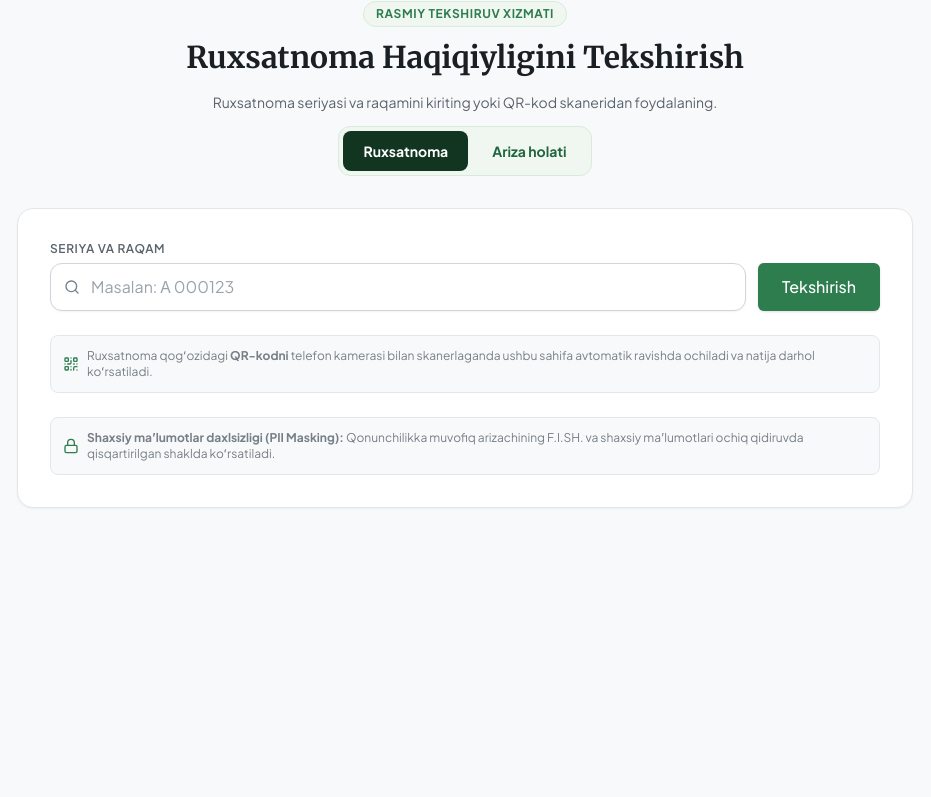
Test case: VerifyPage — application arm › shows the next step for an application awaiting payment
This screenshot has width=931, height=797.
Click the tab "Ariza holati" at (529, 151), box [472,131,586,171]
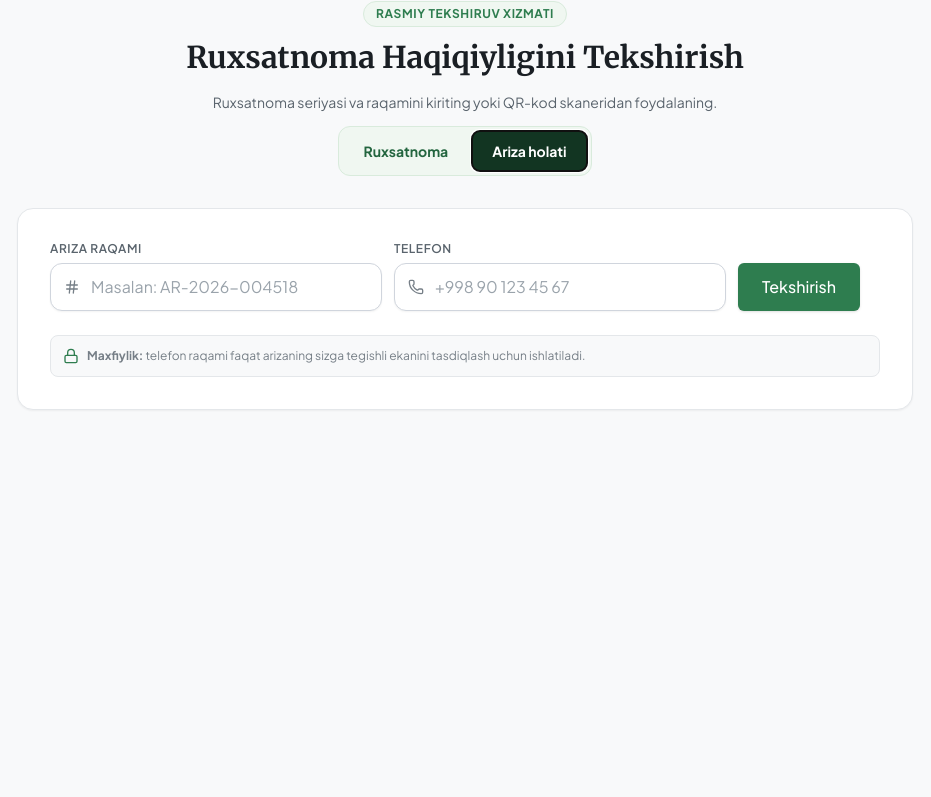
Type "AR-2026-004518" into the field labelled "Ariza raqami" at (216, 287), box [50,263,382,311]
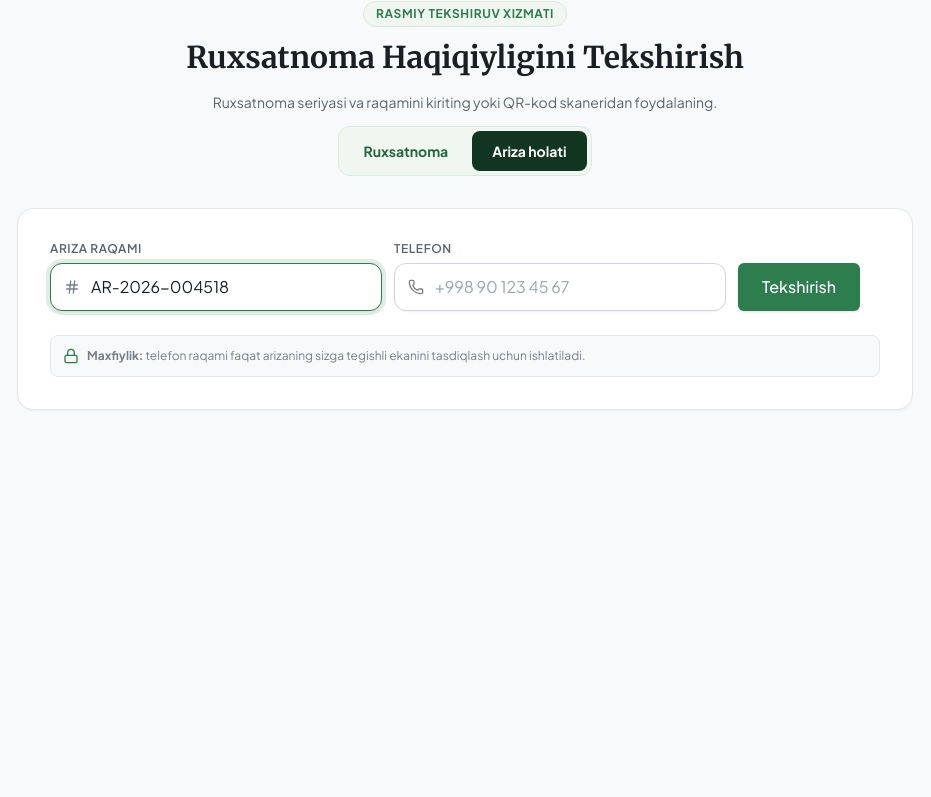
Type "+998901234567" into the field labelled "Telefon" at (560, 287), box [394,263,726,311]
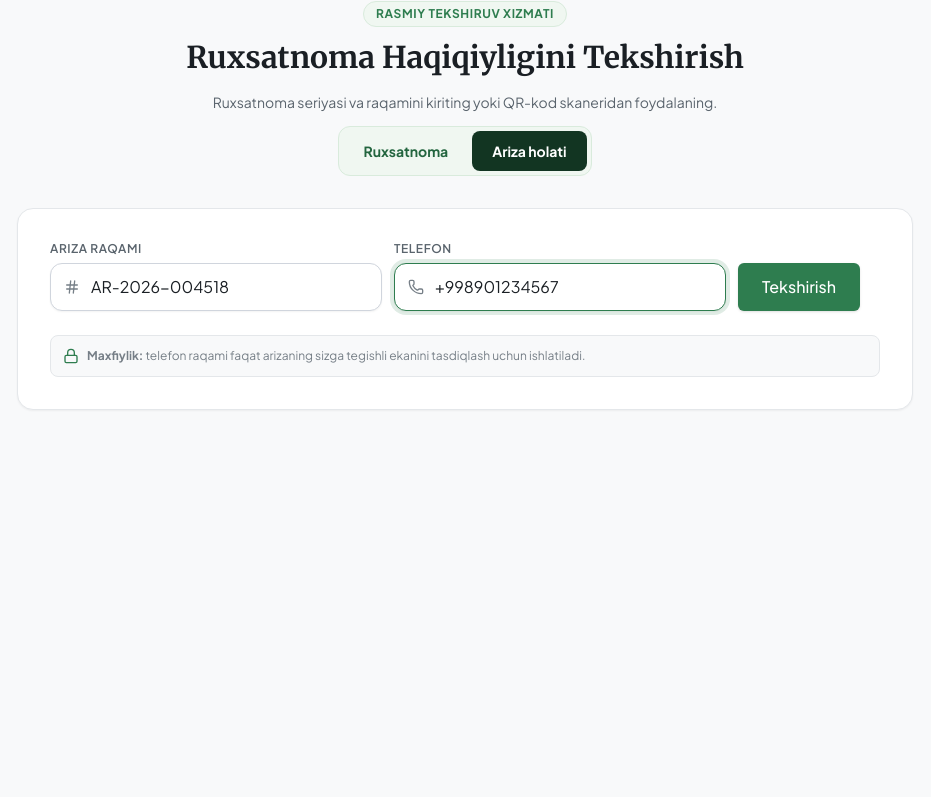
Click the button named "tekshirish" at (799, 287), box [738,263,860,311]
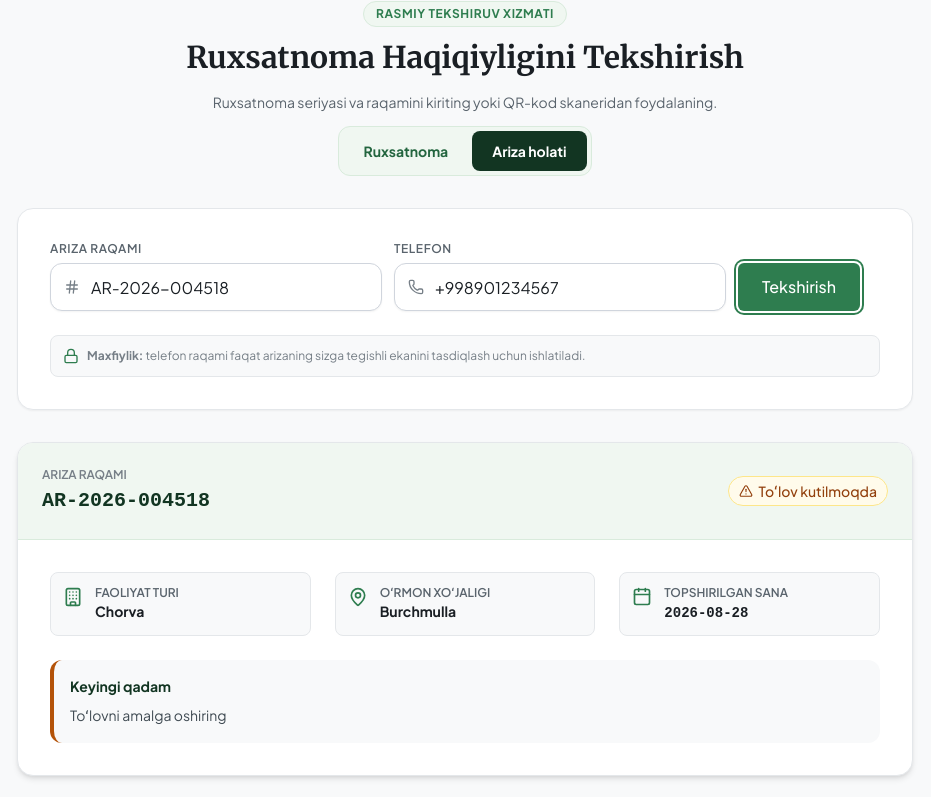
Check: the text "Toʻlov kutilmoqda" is shown, box [759,481,877,501]
Check: the text "Toʻlovni amalga oshiring" is shown, box [70,706,226,724]
